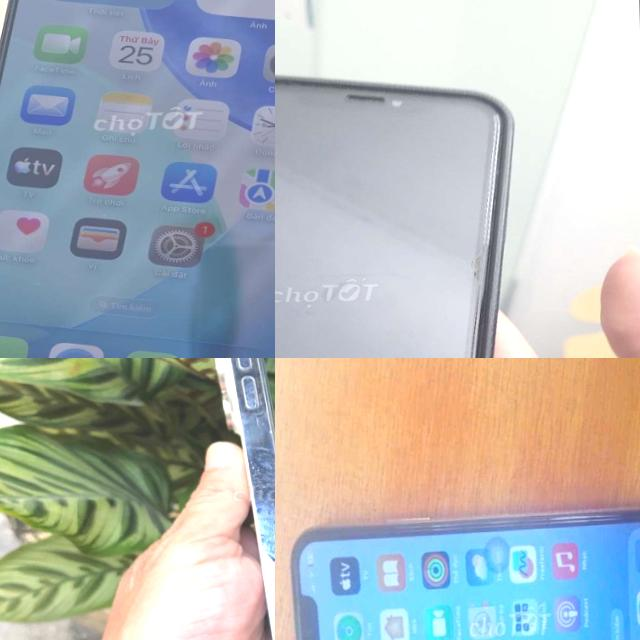gen_14: (190, 358, 275, 640)
gen_16: (0, 0, 275, 358)
gen_x_xs: (275, 76, 511, 358), (277, 502, 640, 640)
physical_damage: (458, 238, 494, 285)
scratch: (242, 439, 275, 576), (222, 358, 275, 436)
